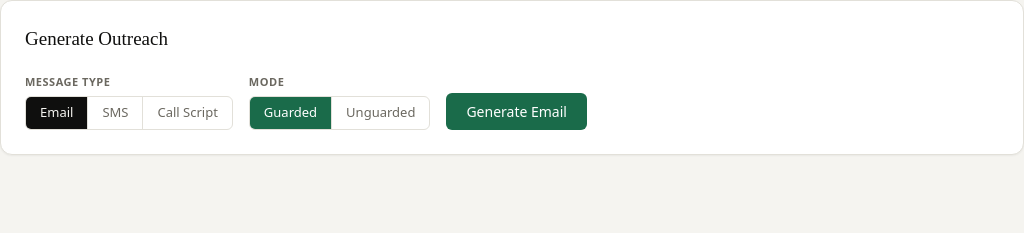
Scenario: GeneratePanel — error handling › shows a fallback message when error is not recognizable
The width and height of the screenshot is (1024, 233).
Click the button "Generate Email" at (517, 111), box x1=446 y1=92 x2=587 y2=130
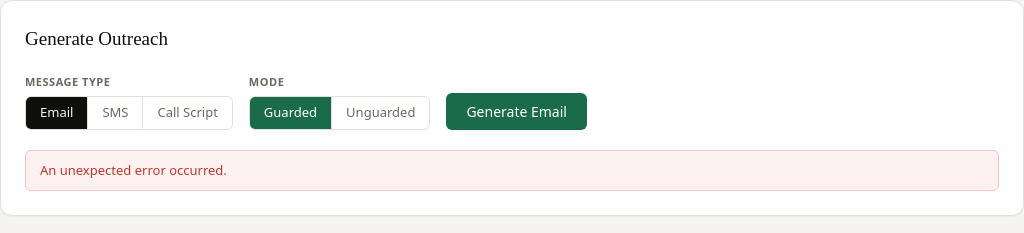
Expected: the text "An unexpected error occurred." is shown, x1=25 y1=150 x2=999 y2=191
